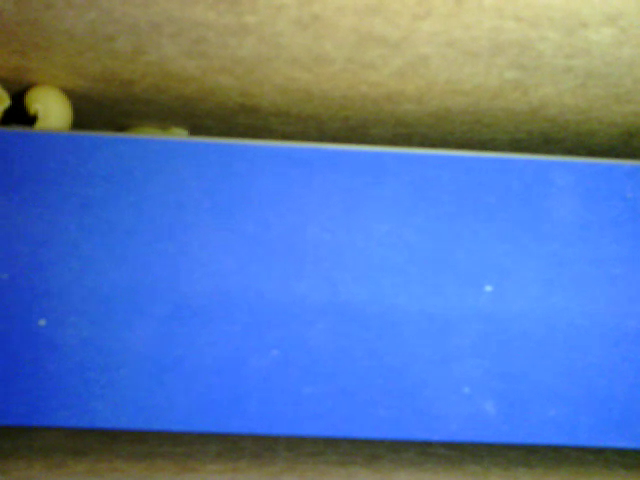shell: (22, 85, 73, 133)
